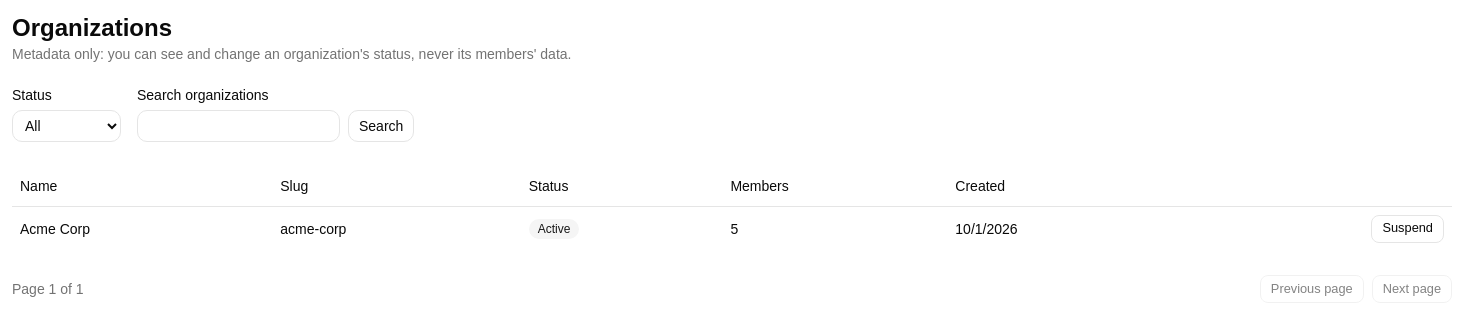
Test case: PlatformOrganizationsPage › lets the administrator cancel without sending anything
Click the button with aria-label "Suspend Acme Corp" at [1408, 228], box x1=1372 y1=214 x2=1444 y2=242
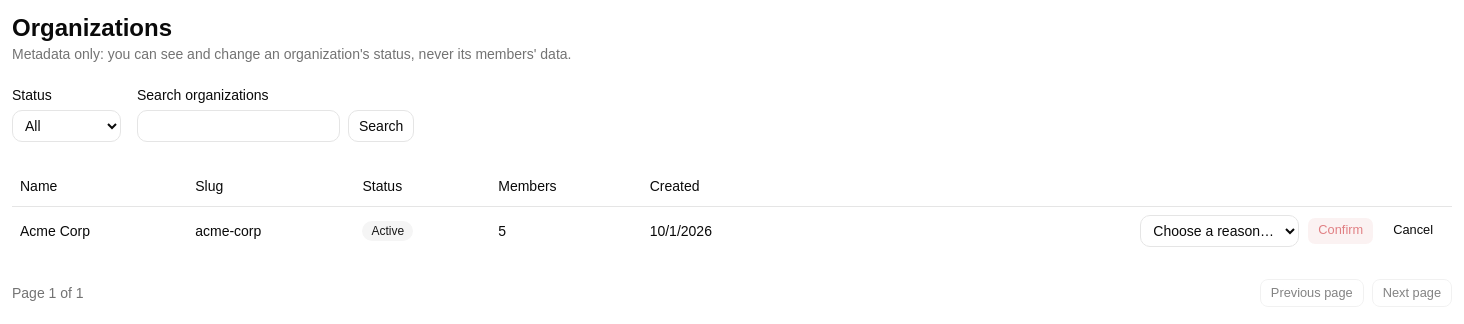
Click the button "Cancel" at [1413, 230], box x1=1382 y1=216 x2=1444 y2=244
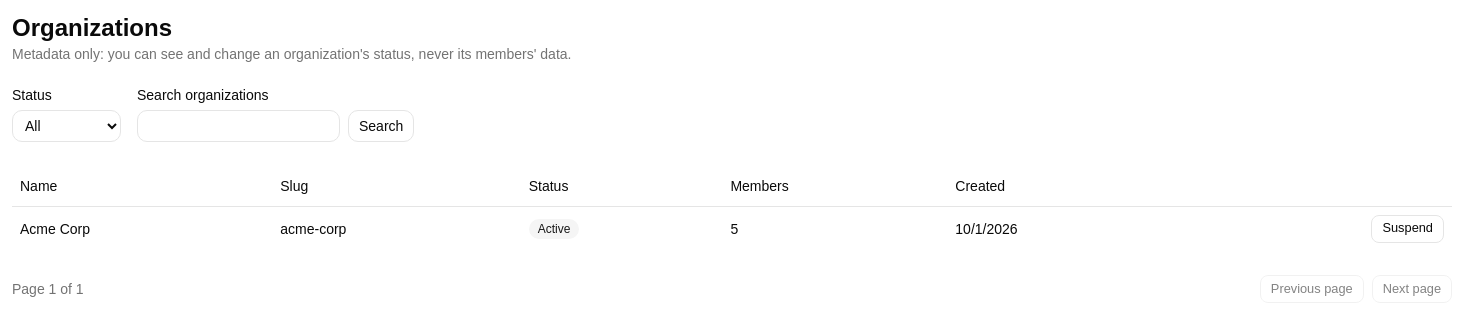
Expected: the button with aria-label "Suspend Acme Corp" is shown, x1=1372 y1=214 x2=1444 y2=242
